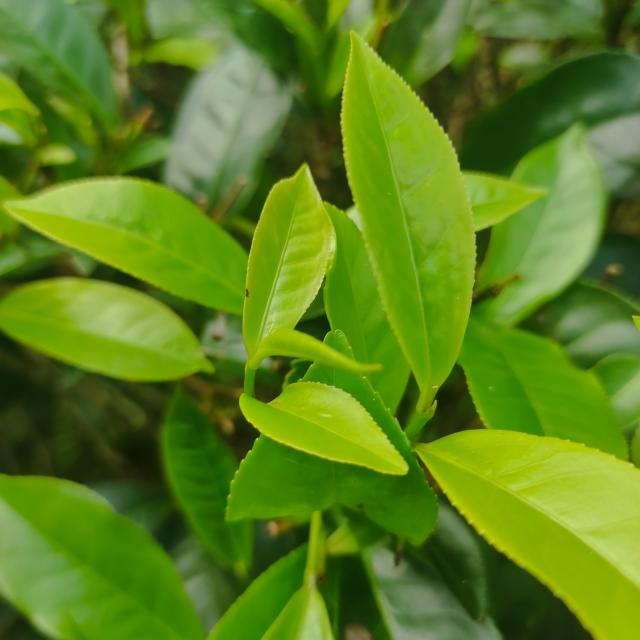unopened_leaf: (244, 322, 391, 385)
